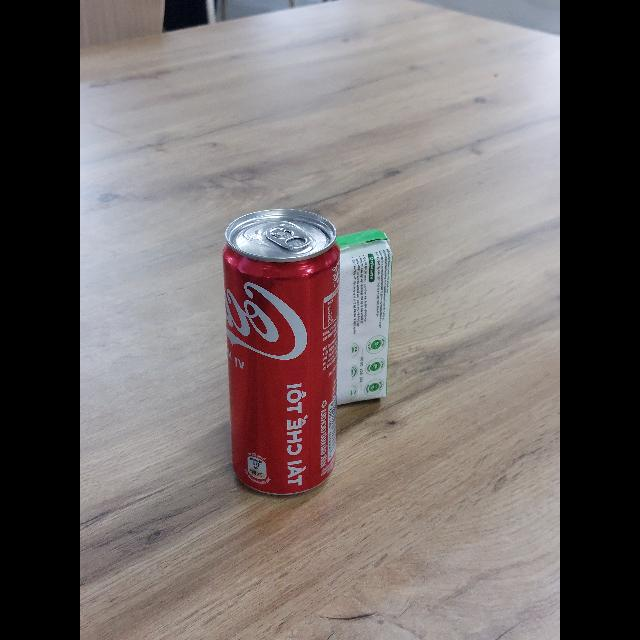coca_cola: (222, 209, 341, 498)
khan_giay: (335, 230, 392, 408)
